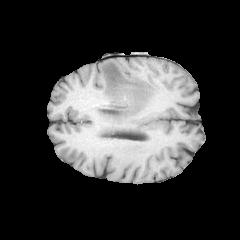glioma: (100, 61, 158, 118)
